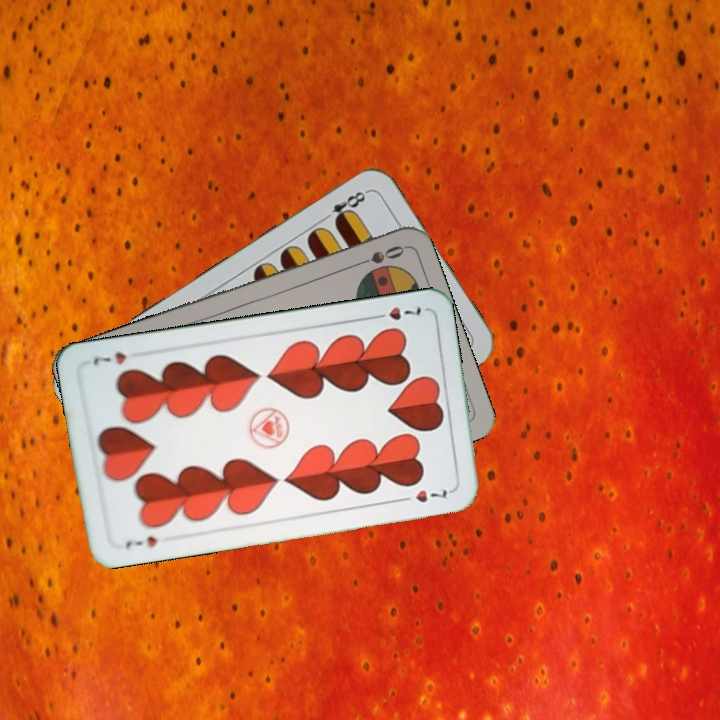E8: (317, 185, 370, 227)
H7: (368, 302, 424, 323), (121, 532, 160, 550)
SO: (349, 241, 407, 270)
